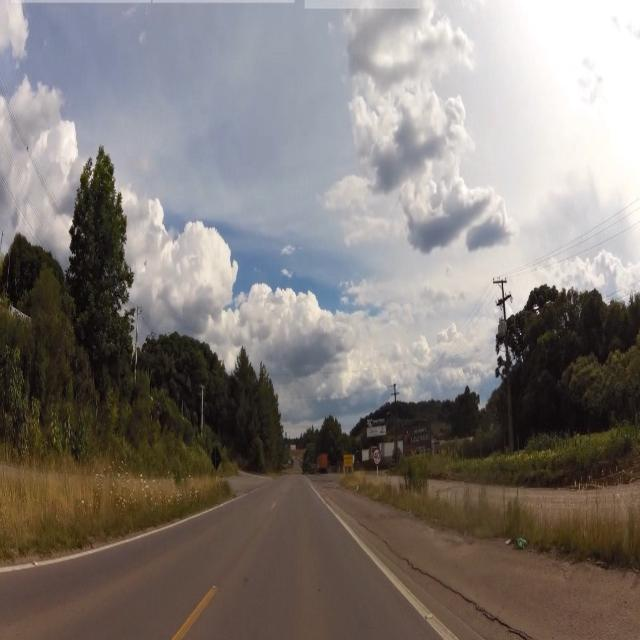R-19: (373, 446, 383, 466)
